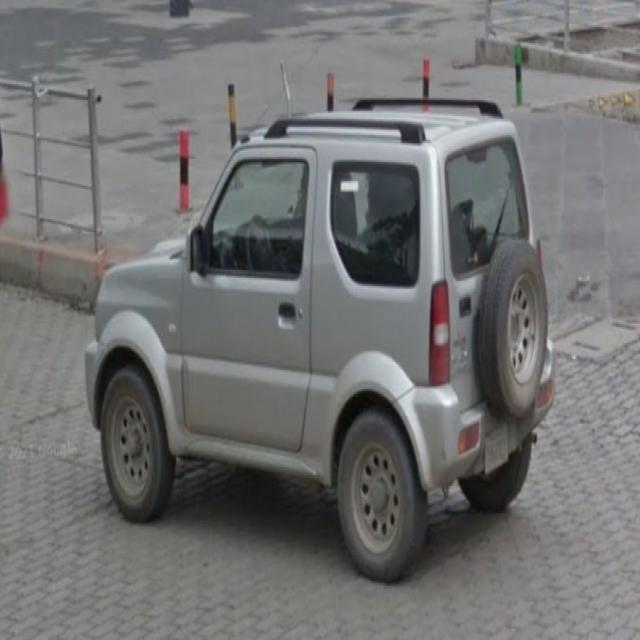Car: (78, 95, 560, 589)
